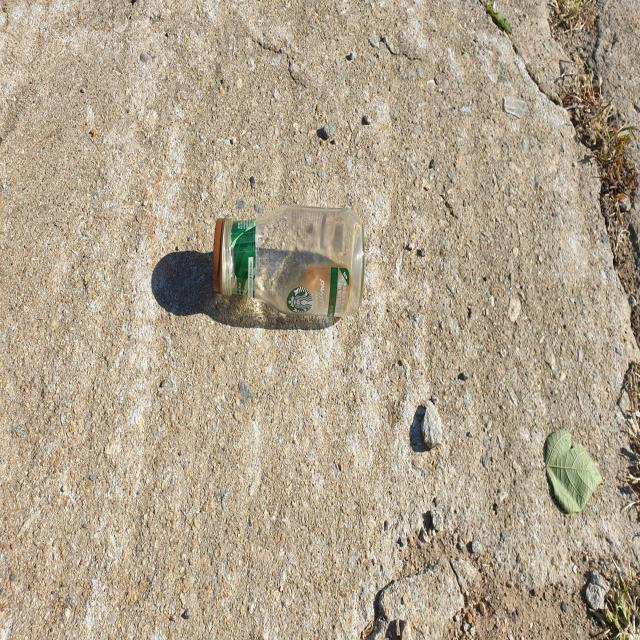glass: (213, 205, 365, 316)
